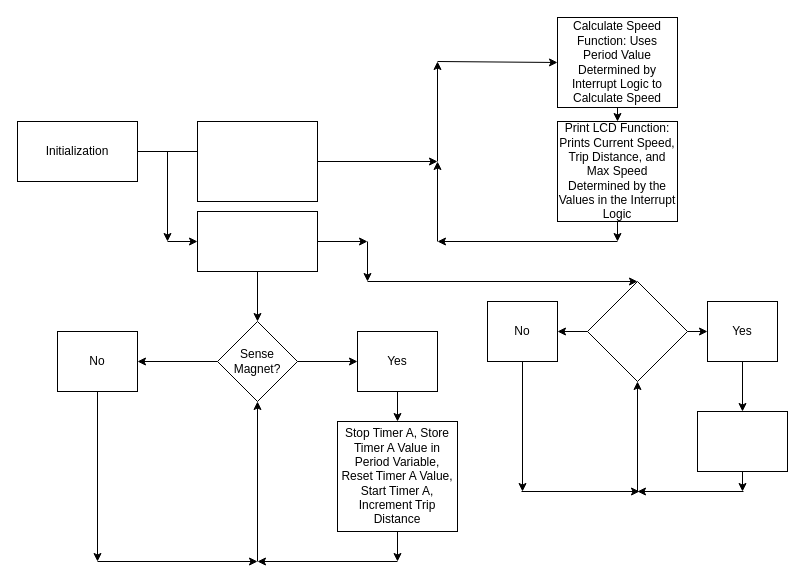
The diagram is 805 pixels wide and 587 high, and some of its shapes have lost their labels. The centre of each missing label's shape, as x and y in pixels:
"Interrupt Logic" goes at (257,241).
"Main Loop" goes at (257,161).
"Reset Button Pushed?" goes at (637,331).
"Reset Trip Distance and Max Speed" goes at (742,441).
